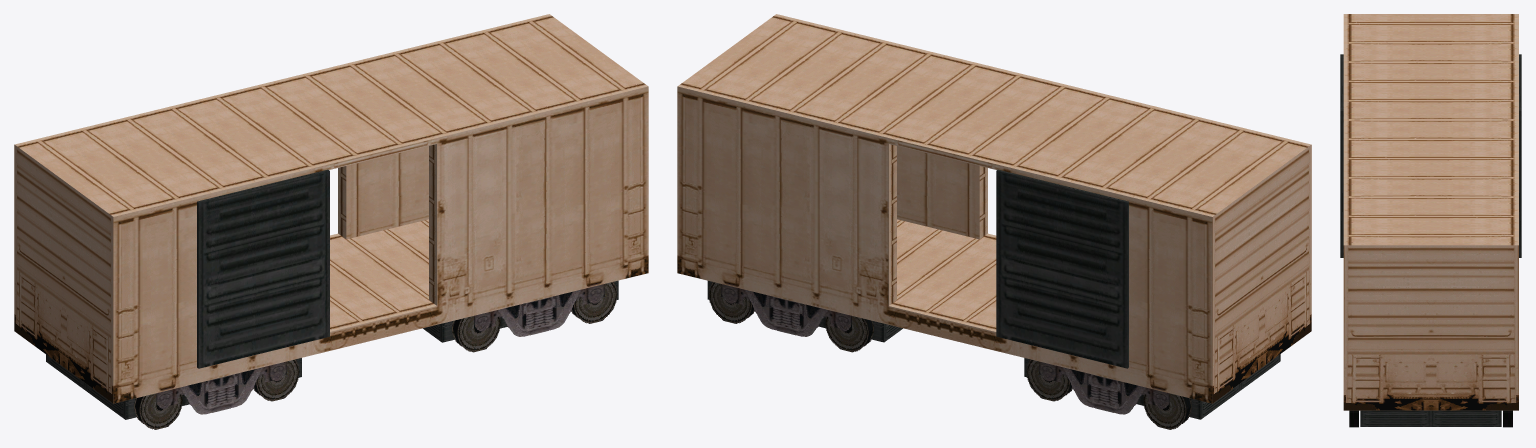
Rendered from lastran1_la02.obj.
The picture shows the model from 3 angles, left to right: view 1: azimuth 30°, elevation 25°; view 2: azimuth 150°, elevation 25°; view 3: azimuth 270°, elevation 25°; orthographic projection. The views are drawn at different scales.
Parts seen in each view (by area): view 1: lastran1_LA02; view 2: lastran1_LA02; view 3: lastran1_LA02.
Part boxes in pixels (x1=…): lastran1_LA02: x1=14, y1=14, x2=648, y2=429; lastran1_LA02: x1=677, y1=14, x2=1311, y2=429; lastran1_LA02: x1=1340, y1=14, x2=1521, y2=427.
Bounding box in the file's own units: 8.09 × 3.27 × 2.68.
7 materials, 6 textured.
